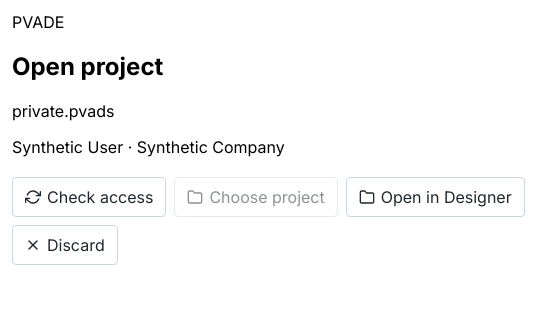
Test case: account change or insufficient import permission prevents file reads and routing
Click the button "Open in Designer". click: (435, 197)
box: [346, 177, 525, 217]
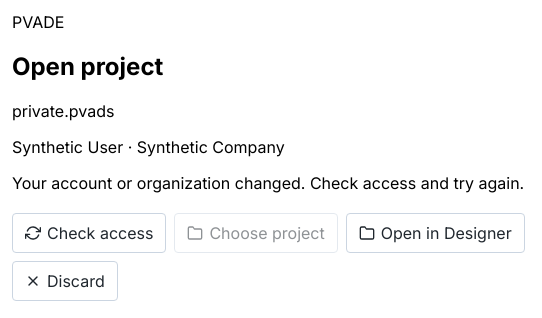
Expected: the message "Your account or organization changed. Check access and try again." is shown, [12, 173, 524, 193]
